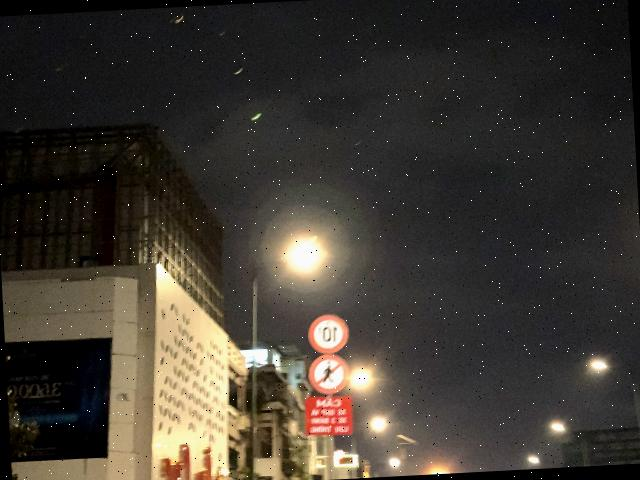cam-nguoi-di-bo: (308, 354, 350, 396)
han-che-trong-luong-xe: (307, 314, 350, 356)
